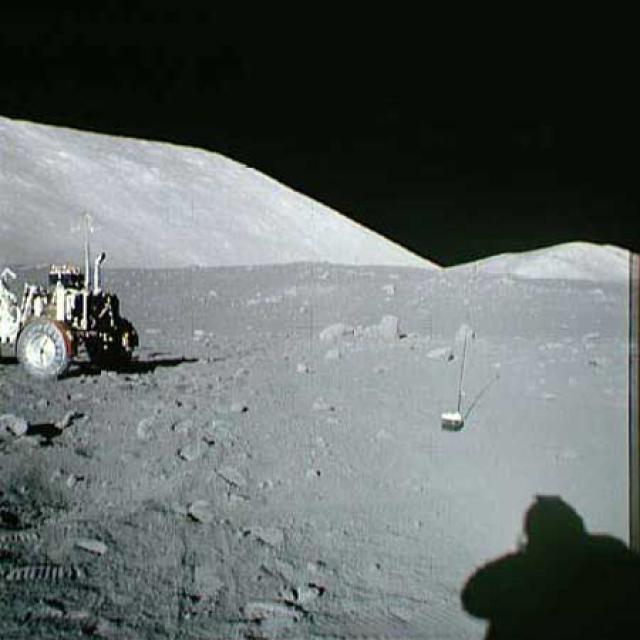artifact: (0, 206, 145, 380), (441, 324, 472, 434)
rock: (357, 314, 406, 343), (0, 412, 33, 442), (318, 318, 352, 343)
